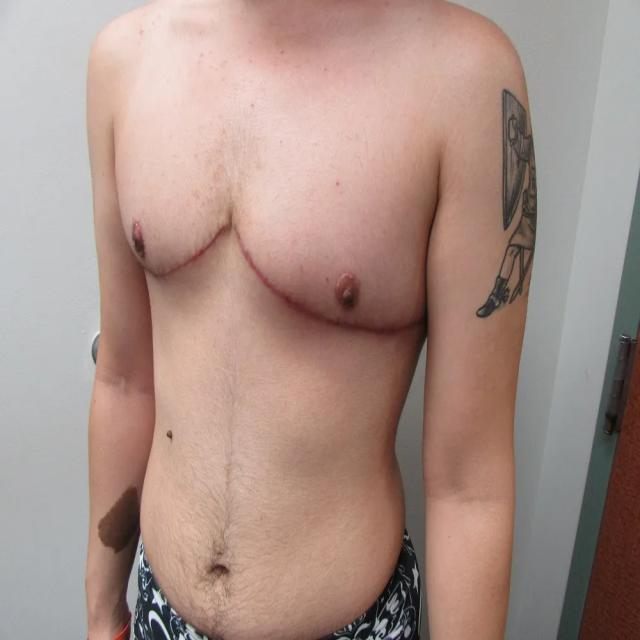Seno herido: (234, 112, 433, 368), (112, 98, 230, 300)
